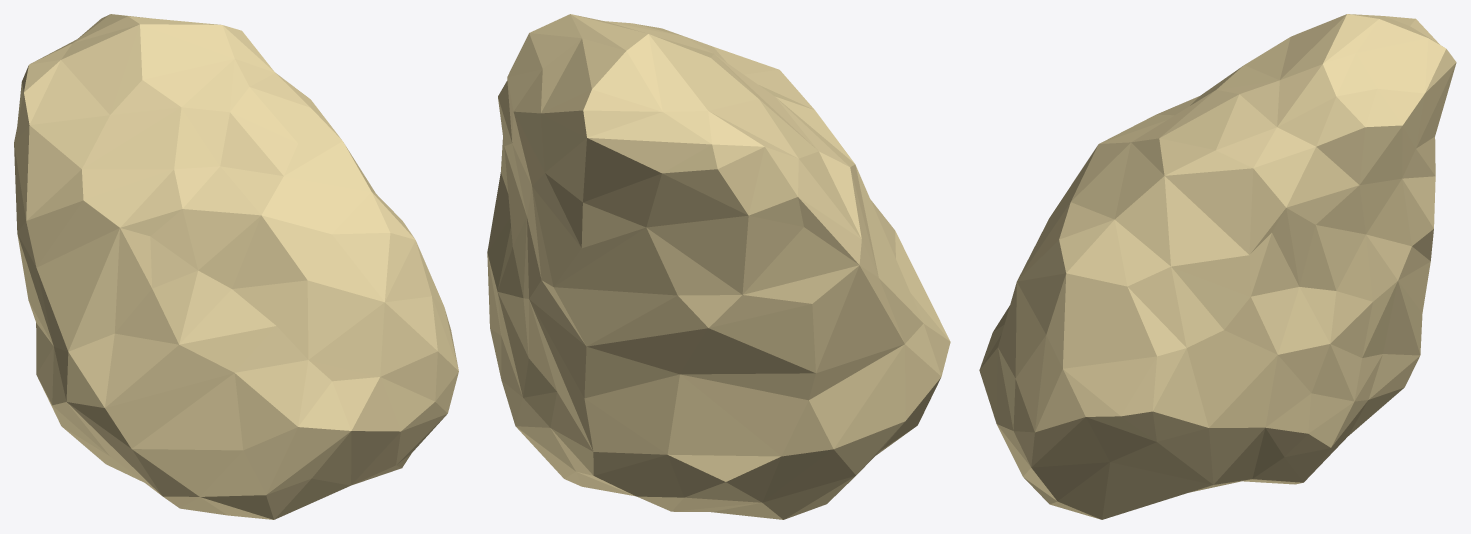
The model's file is Asteroid (99).fbx.
3 views of the same model, side by side, from view 1: azimuth 30°, elevation 25°; view 2: azimuth 150°, elevation 25°; view 3: azimuth 270°, elevation 25° (orthographic). The views are drawn at different scales.
Visible parts, largest first — view 1: Asteroid137; view 2: Asteroid137; view 3: Asteroid137.
Part boxes in pixels (x1,y1,x2,y2): Asteroid137: (14,14,458,519); Asteroid137: (487,14,950,519); Asteroid137: (979,14,1456,519).
Bounding box in the file's own units: 268 × 297 × 285.
